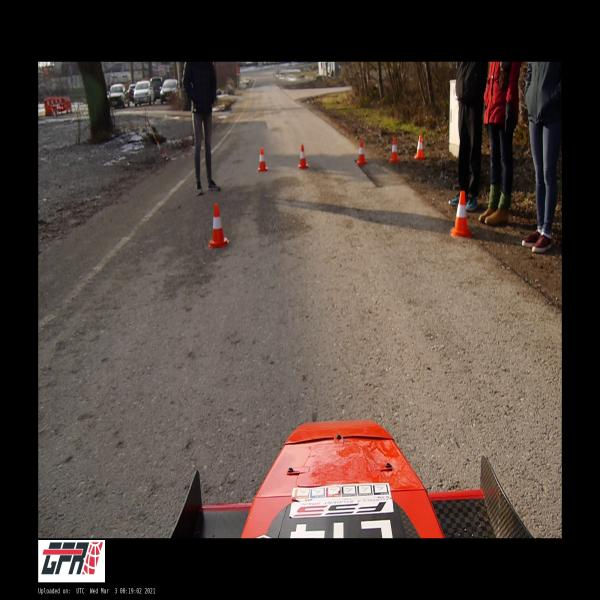orange_cone: (451, 191, 471, 237), (208, 204, 229, 247), (389, 137, 400, 162), (357, 140, 367, 164), (258, 148, 268, 171), (298, 145, 308, 168), (415, 135, 424, 159)
